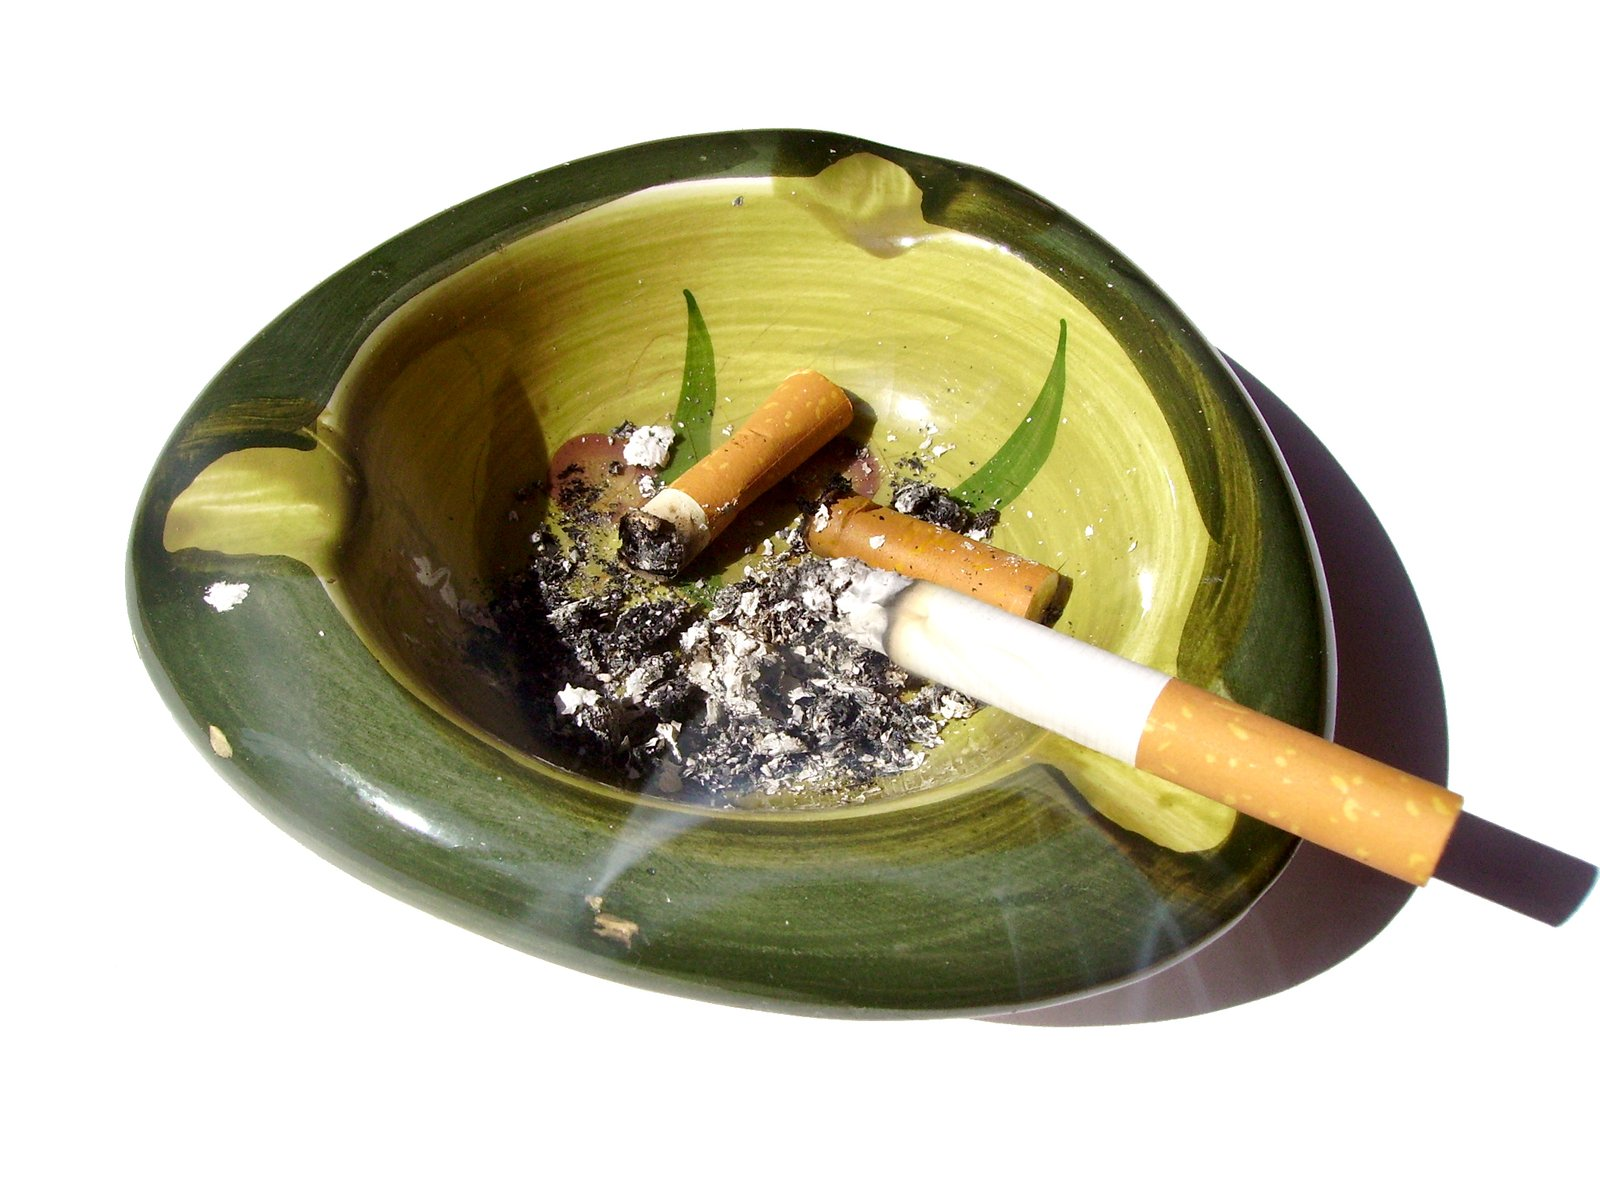cigarette: (772, 541, 1470, 889), (616, 362, 866, 574), (795, 492, 1083, 637)
